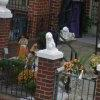Statue: (29, 22, 65, 63)
